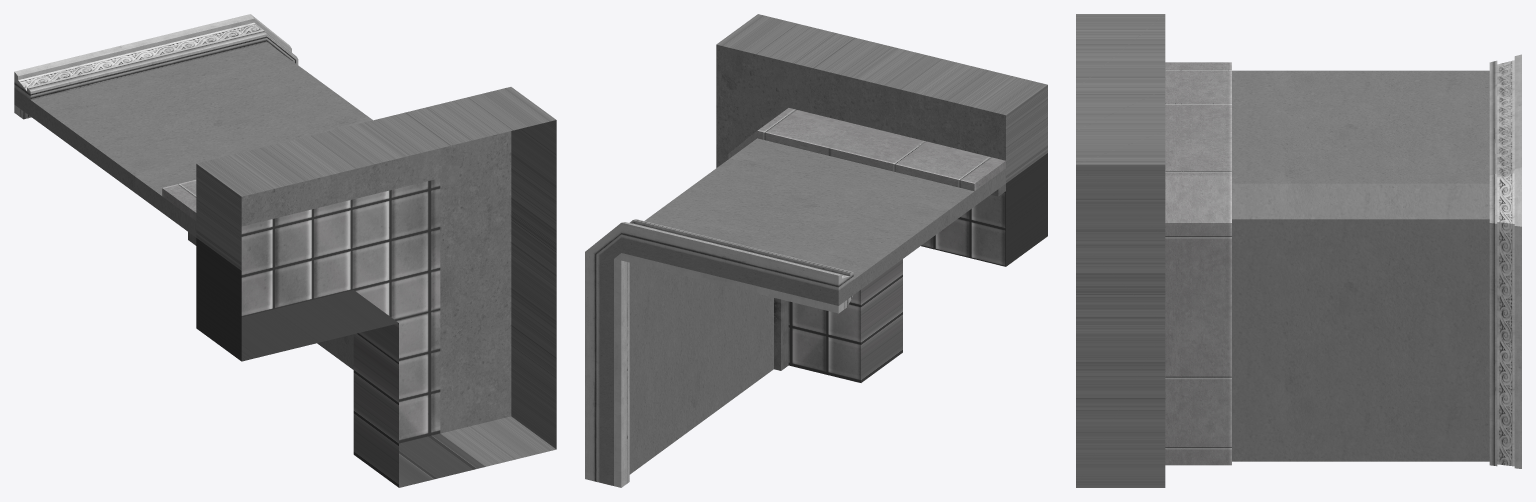
The model's file is A_ground_wall_ 4m_corner.fbx.
The picture shows the model from 3 angles, left to right: view 1: azimuth 30°, elevation 25°; view 2: azimuth 150°, elevation 25°; view 3: azimuth 270°, elevation 25°; orthographic projection. The views are drawn at different scales.
Visible parts, largest first — view 1: A_ground_wall__4m_corner; view 2: A_ground_wall__4m_corner; view 3: A_ground_wall__4m_corner.
Part boxes in pixels (x1,y1,x2,y2): A_ground_wall__4m_corner: [14, 14, 556, 487]; A_ground_wall__4m_corner: [585, 14, 1047, 487]; A_ground_wall__4m_corner: [1076, 14, 1521, 487].
Size of the model in its own units: 4 by 4 by 5.
